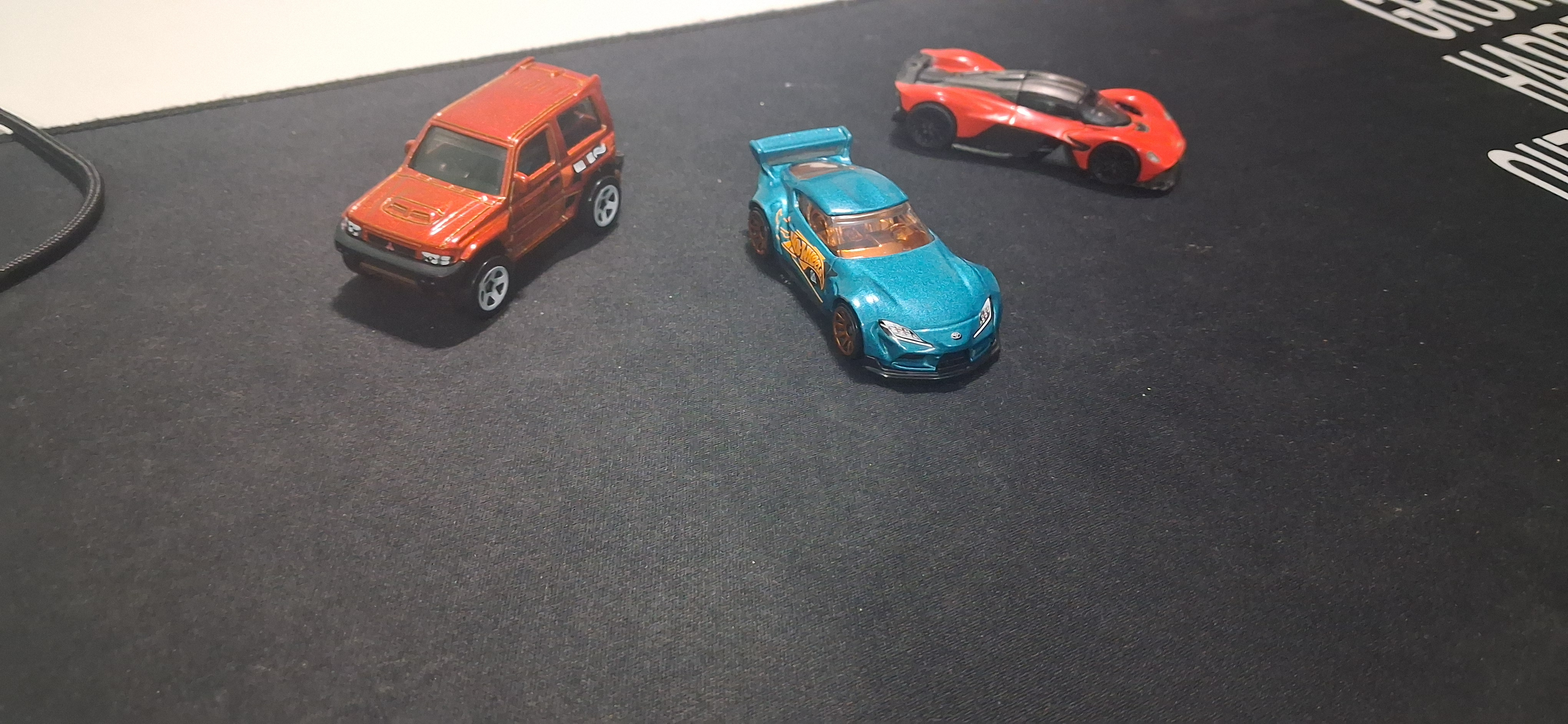Aston_Martin_Valkyrie: (898, 34, 1277, 185)
Mitsubishi_Pajero_Evolution: (285, 38, 643, 366)
Toyota_GR_Supra: (728, 119, 1019, 450)
